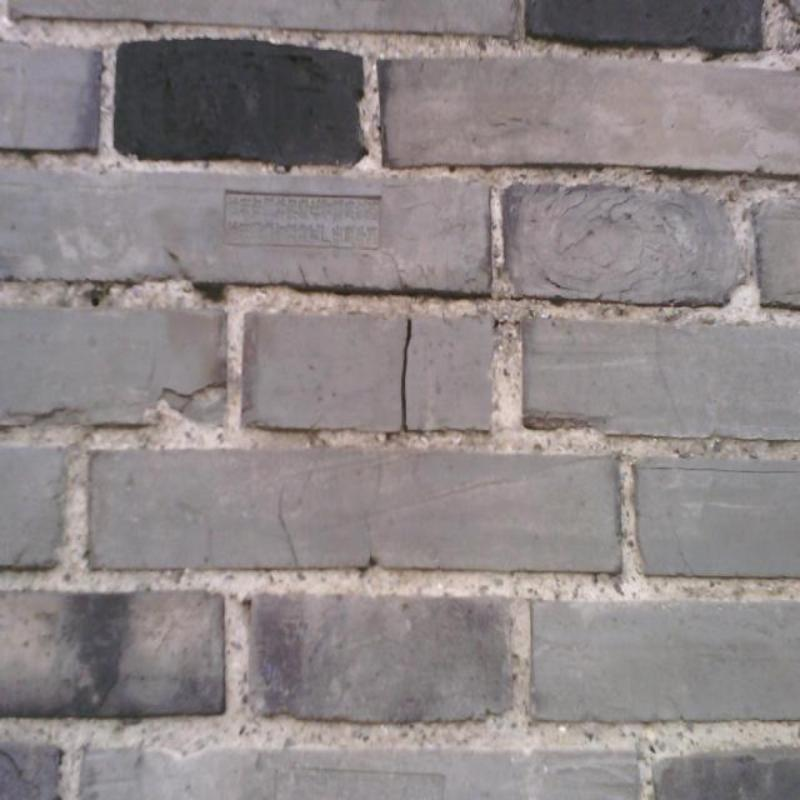pothole: (655, 325, 682, 424), (365, 453, 384, 561), (278, 486, 300, 568), (648, 465, 799, 475), (670, 524, 696, 578), (0, 750, 35, 785), (402, 319, 411, 430), (196, 284, 222, 299), (298, 265, 308, 285)
